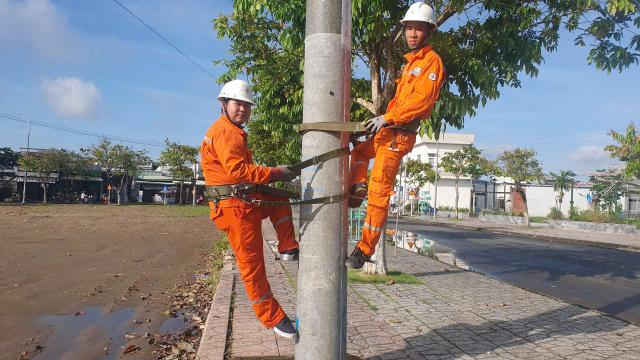gloves: (359, 110, 391, 134), (270, 156, 296, 184)
harness: (352, 114, 430, 138), (203, 178, 280, 202)
helmet: (215, 73, 260, 110), (399, 0, 441, 30)
shoes: (261, 312, 306, 340), (339, 248, 376, 273), (344, 182, 370, 214), (278, 244, 314, 264)
